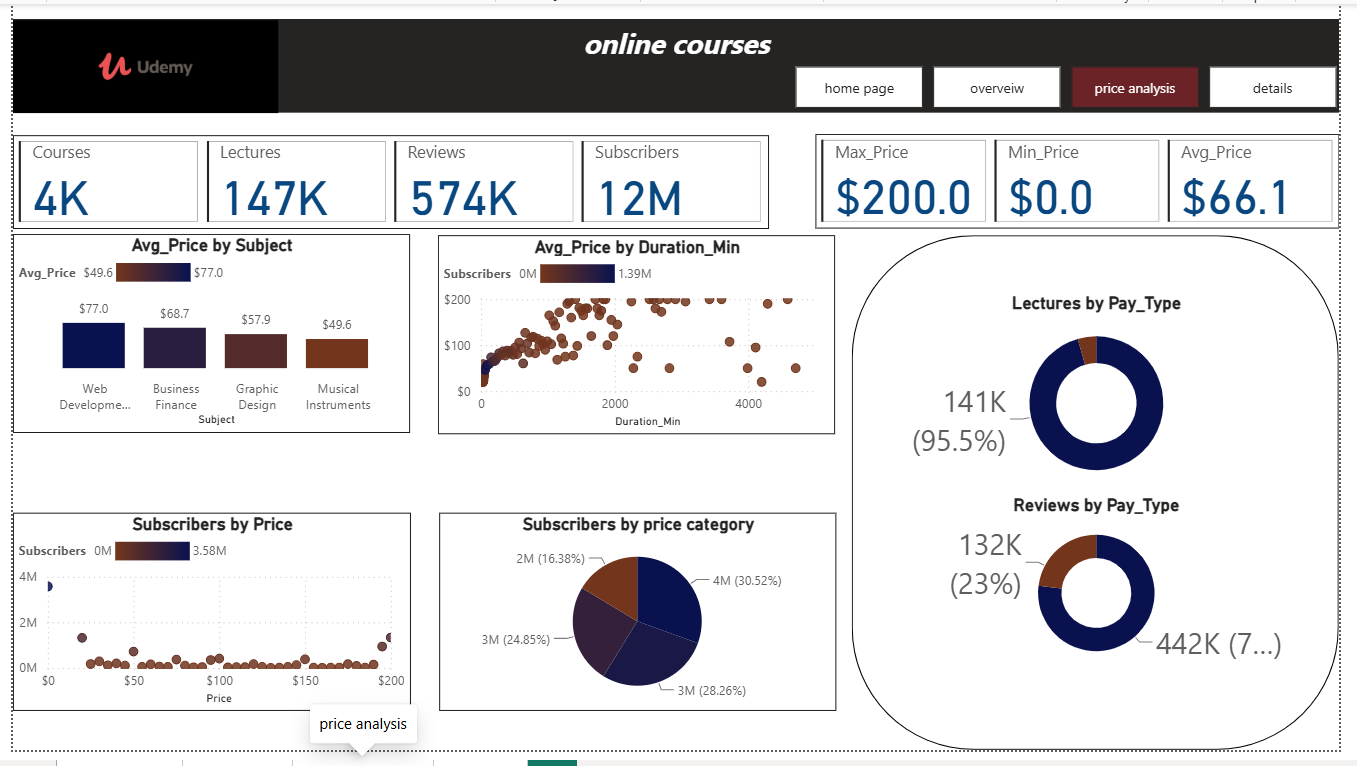

This screenshot's page, from the dashboard's own definition file:
{"tool":"powerbi","page":{"name":"price analysis ","canvas":[1280,720],"ordinal":2},"visuals":[{"type":"shape","box":[810,223.3,470,496.7],"z":0},{"type":"textbox","box":[0,14.5,1280,90.5],"z":1000},{"type":"image","box":[0,15.7,255.8,89.3],"z":2000},{"type":"cardVisual","fields":{"Data":["udemy.Courses","udemy.Lectures","udemy.Reviews","udemy.Subscribers"]},"box":[0,126.7,729.9,90.5],"z":3000},{"type":"cardVisual","fields":{"Data":["udemy.Max_Price","udemy.Min_Price","udemy.Avg_Price"]},"box":[774.4,125.6,505.6,91.1],"z":4000},{"type":"columnChart","fields":{"Category":["udemy.Subject"],"Y":["udemy.Avg_Price"]},"box":[0,222.5,383,191.7],"z":5000},{"type":"scatterChart","fields":{"X":["udemy.Price"],"Y":["udemy.Subscribers"]},"box":[0,491.1,384,191],"z":6000},{"type":"scatterChart","fields":{"X":["udemy.Duration_Min"],"Y":["udemy.Avg_Price"]},"box":[410,223.8,383.3,191.7],"z":7000},{"type":"pieChart","fields":{"Category":["udemy.price category "],"Y":["udemy.Subscribers"]},"box":[411.1,491.1,383,191],"z":8000},{"type":"donutChart","fields":{"Category":["udemy.Pay_Type"],"Y":["udemy.Lectures"]},"box":[832.2,278.9,426.7,194.4],"z":9000},{"type":"donutChart","fields":{"Category":["udemy.Pay_Type"],"Y":["udemy.Reviews"]},"box":[832.2,473.3,426.7,172.2],"z":11000},{"type":"pageNavigator","box":[755,60,525,40],"z":11001}]}

Visuals, with their boxes in screenshot pixels (x1, y1, x2, y2), scaled from the page's 1280x720 canvas onto the 1357x766 screenshot:
shape: (x1=859, y1=238, x2=1356, y2=765)
textbox: (x1=0, y1=15, x2=1356, y2=112)
image: (x1=0, y1=17, x2=271, y2=112)
cardVisual - udemy.Courses x udemy.Lectures: (x1=0, y1=135, x2=774, y2=231)
cardVisual - udemy.Max_Price x udemy.Min_Price: (x1=821, y1=134, x2=1356, y2=231)
columnChart - udemy.Subject x udemy.Avg_Price: (x1=0, y1=237, x2=406, y2=441)
scatterChart - udemy.Price x udemy.Subscribers: (x1=0, y1=522, x2=407, y2=726)
scatterChart - udemy.Duration_Min x udemy.Avg_Price: (x1=435, y1=238, x2=841, y2=442)
pieChart - udemy.price category  x udemy.Subscribers: (x1=436, y1=522, x2=842, y2=726)
donutChart - udemy.Pay_Type x udemy.Lectures: (x1=882, y1=297, x2=1335, y2=504)
donutChart - udemy.Pay_Type x udemy.Reviews: (x1=882, y1=504, x2=1335, y2=687)
pageNavigator: (x1=800, y1=64, x2=1356, y2=106)
